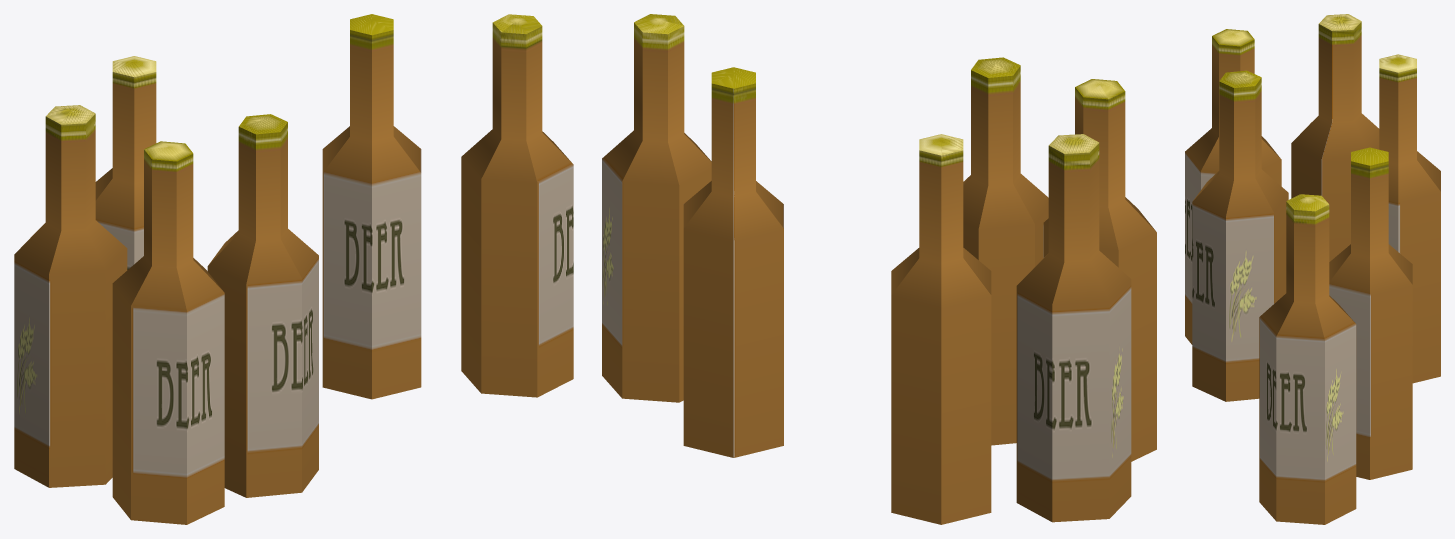
The model's file is beer_bottles_textured.fbx.
The picture shows the model from 3 angles, left to right: view 1: azimuth 30°, elevation 25°; view 2: azimuth 150°, elevation 25°; view 3: azimuth 270°, elevation 25°; orthographic projection. The views are drawn at different scales.
Parts seen in each view (by area): view 1: polySurface2; view 2: polySurface2; view 3: polySurface2.
Boxes of the visible parts, <box> form: polySurface2: <box>14,14,573,524</box>; polySurface2: <box>602,14,1156,524</box>; polySurface2: <box>1185,14,1440,524</box>.
Bounding box in the file's own units: 42.11 × 27.48 × 20.78.
